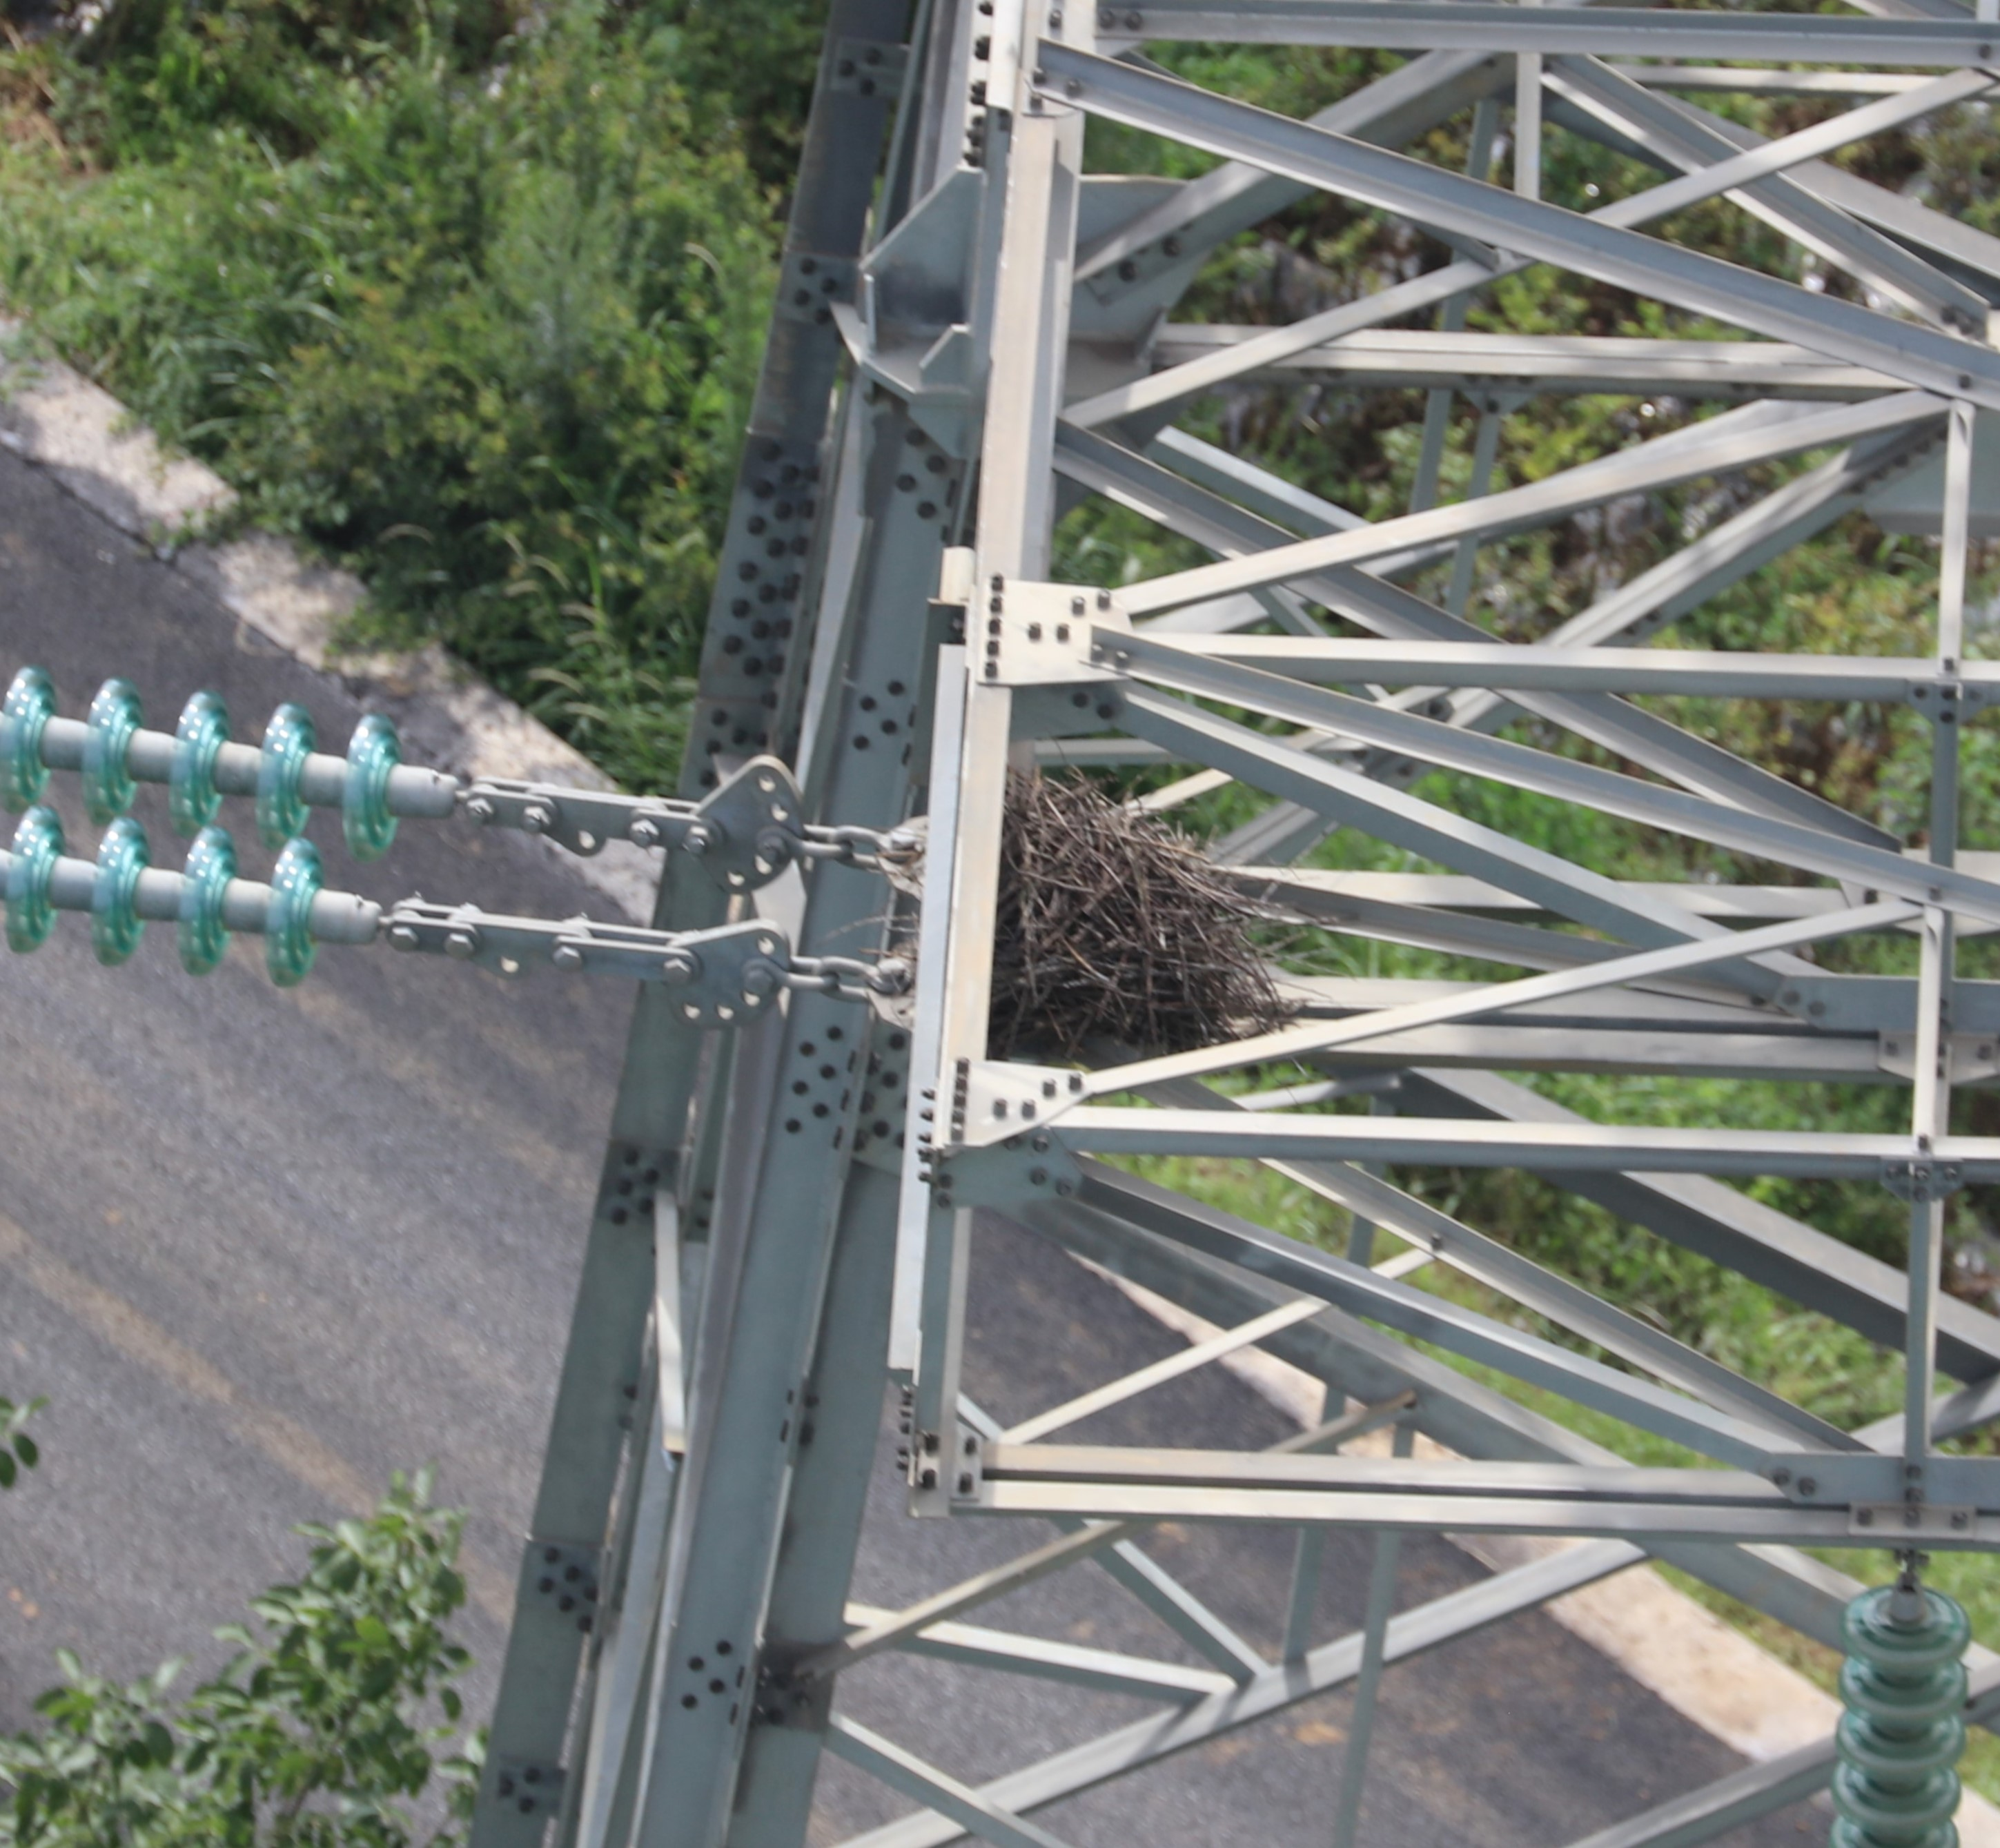niaowo: (930, 739, 1293, 1122)
